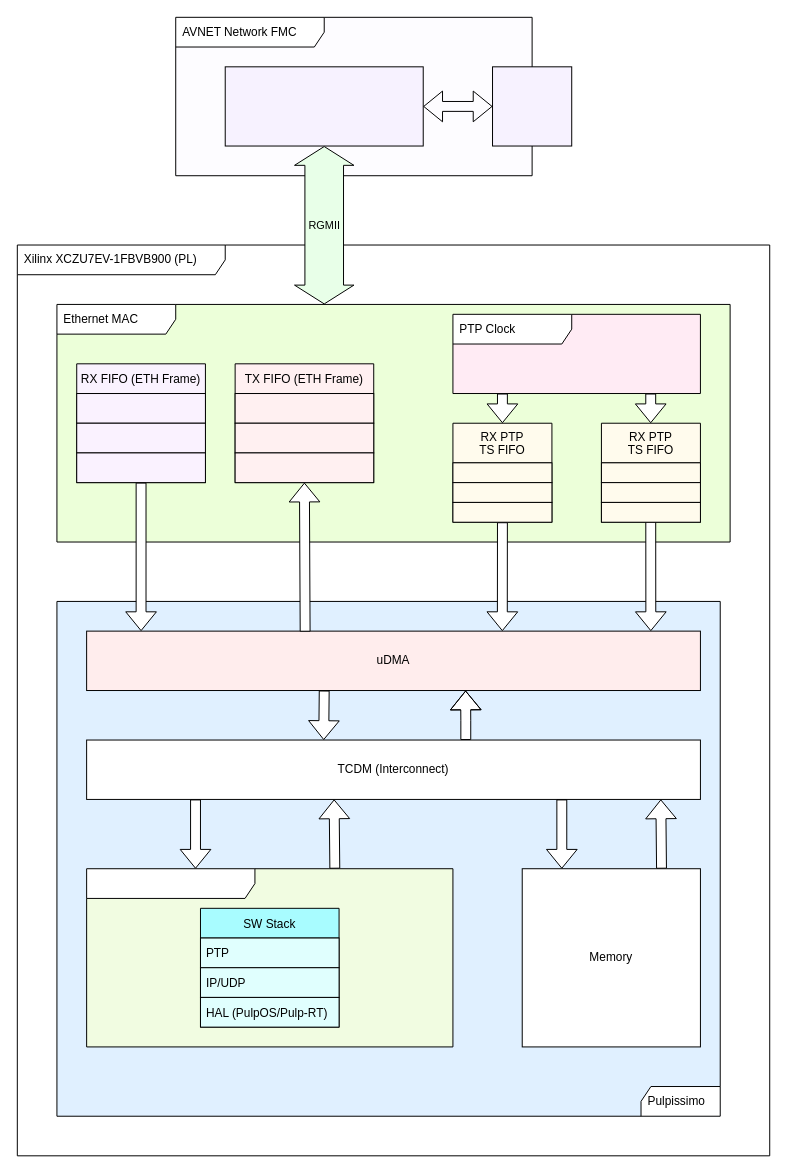
This 787x1173 diagram has some shape labels left out. The box of each missing label's shape, as (x1, y1, x2, y2) in pixels:
Ethernet PHY: (224, 66, 423, 146)
RISC-V Core (CV32E40P): (86, 868, 453, 1047)
RJ-45: (492, 66, 572, 146)
